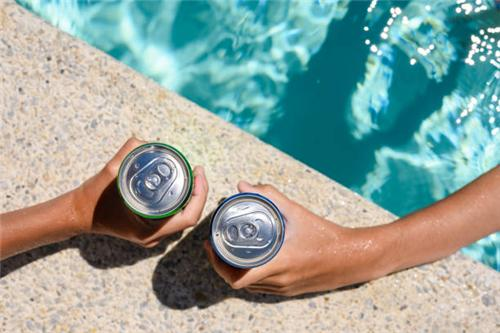alcohol: (119, 140, 193, 220), (210, 192, 286, 269)
